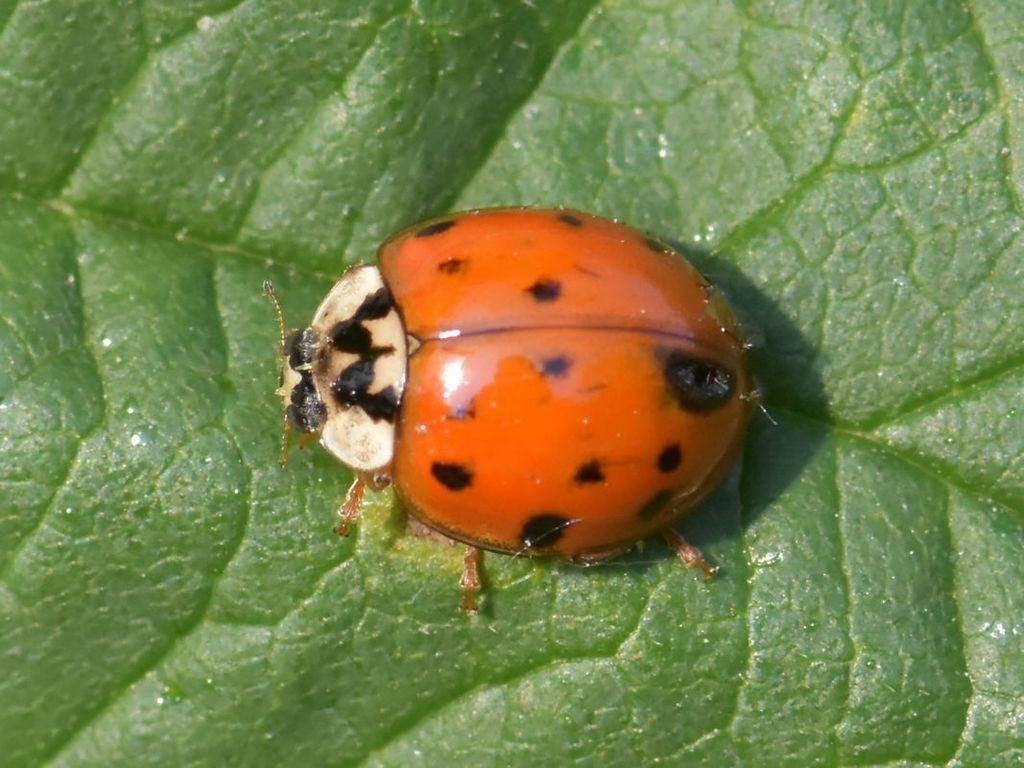ladybug: (259, 203, 767, 613)
